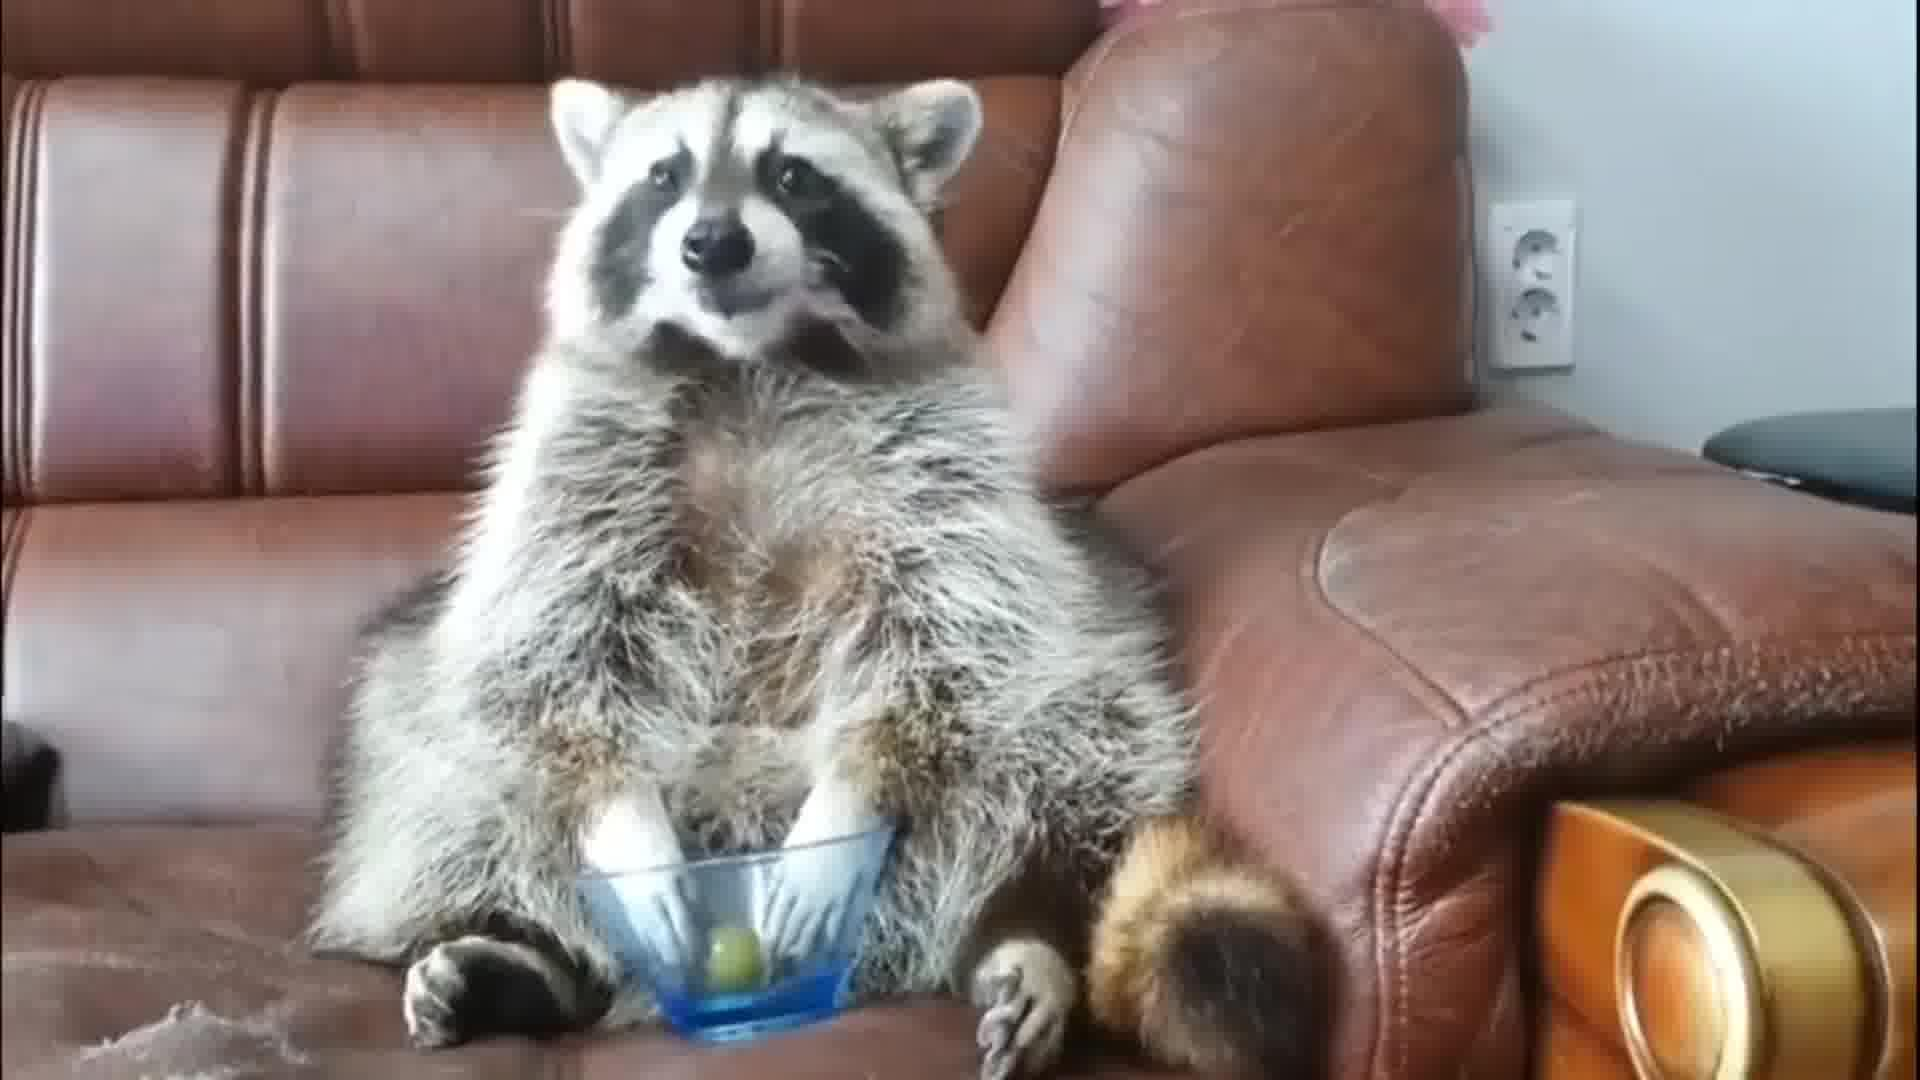raccoon: (285, 61, 1331, 1080)
